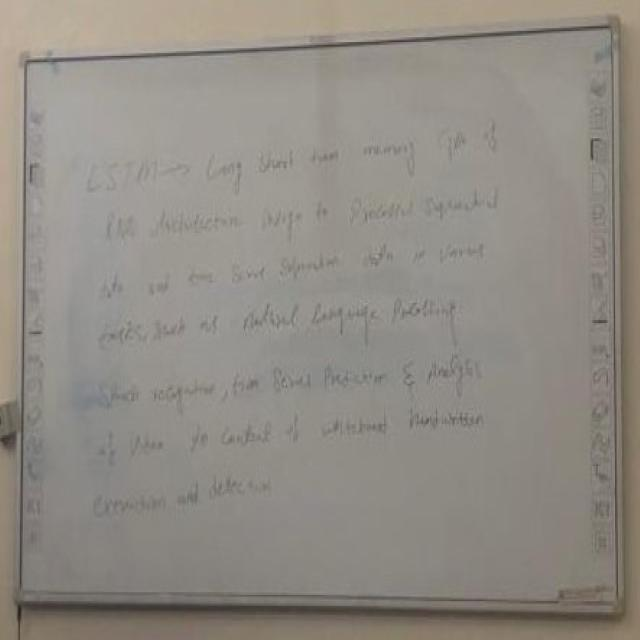White-board: (21, 24, 619, 612)
